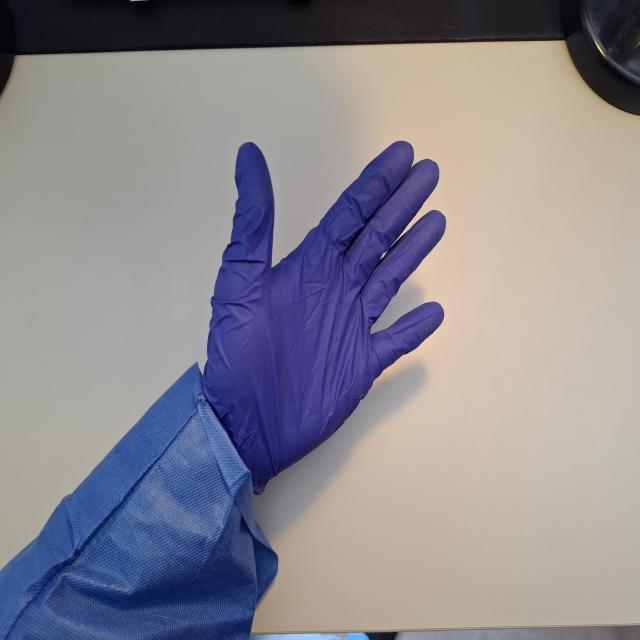glove_on: (192, 137, 449, 501)
